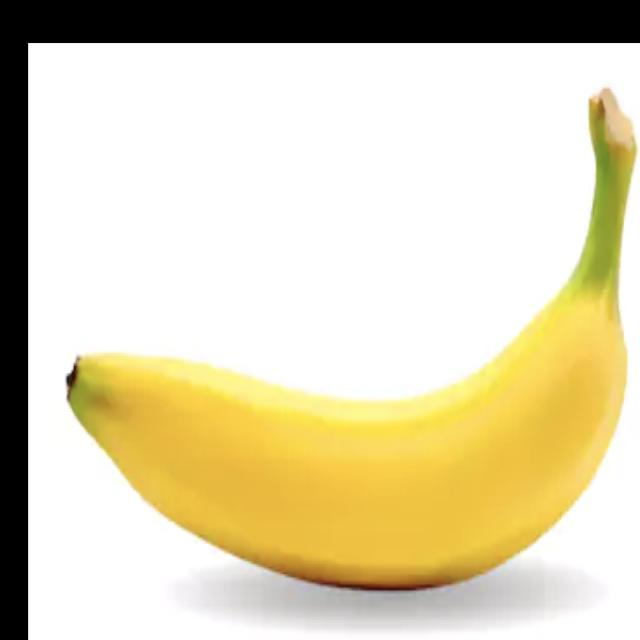Ripe: (47, 76, 640, 596)
